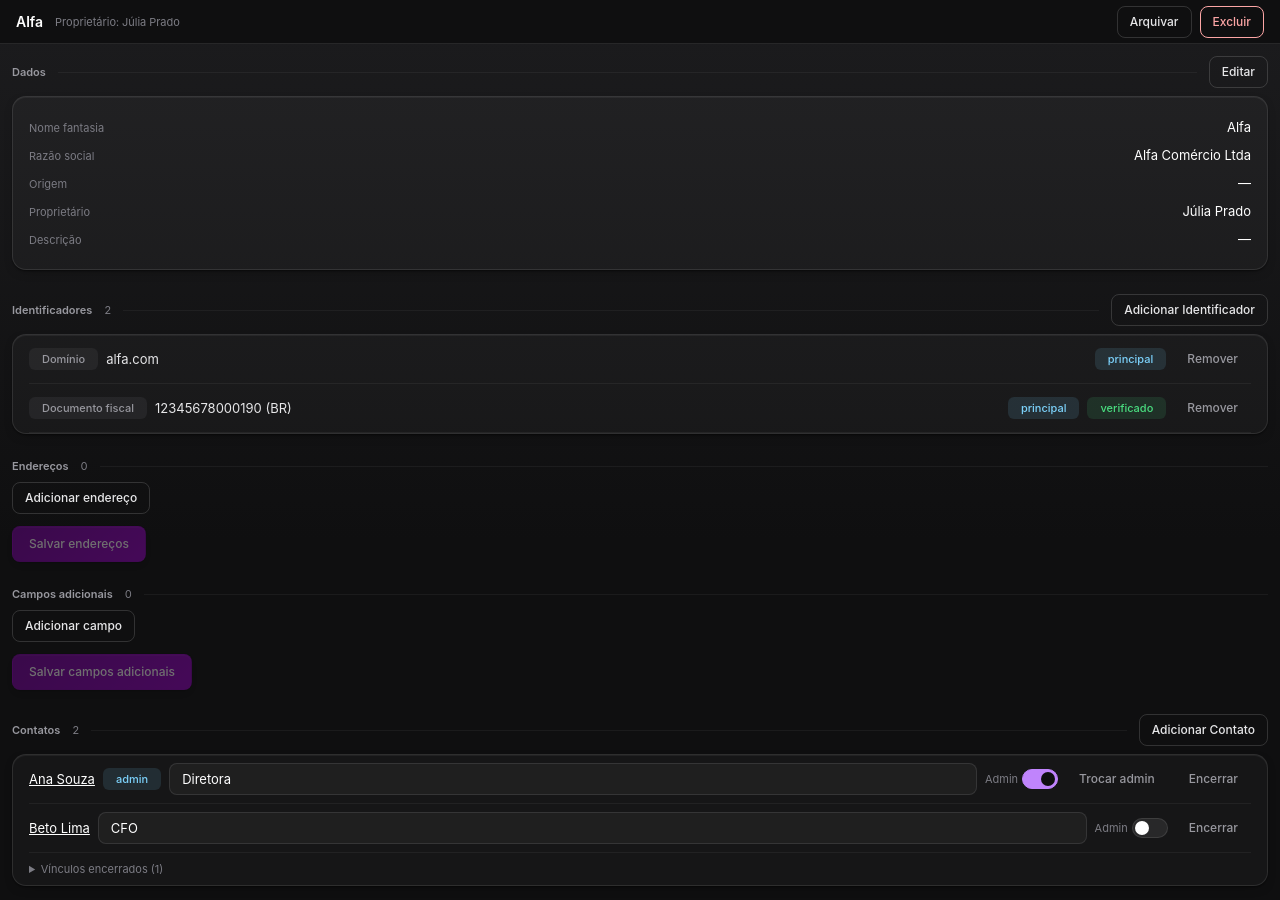
Scenario: FichaDeEmpresa — Identificadores e Dados › (j) editar a matriz: MATRIZ_INVALIDA da api aparece no campo Matriz e o diálogo continua aberto
Step 1. Click the button "Editar" → [1238, 72], box [1209, 56, 1268, 88]
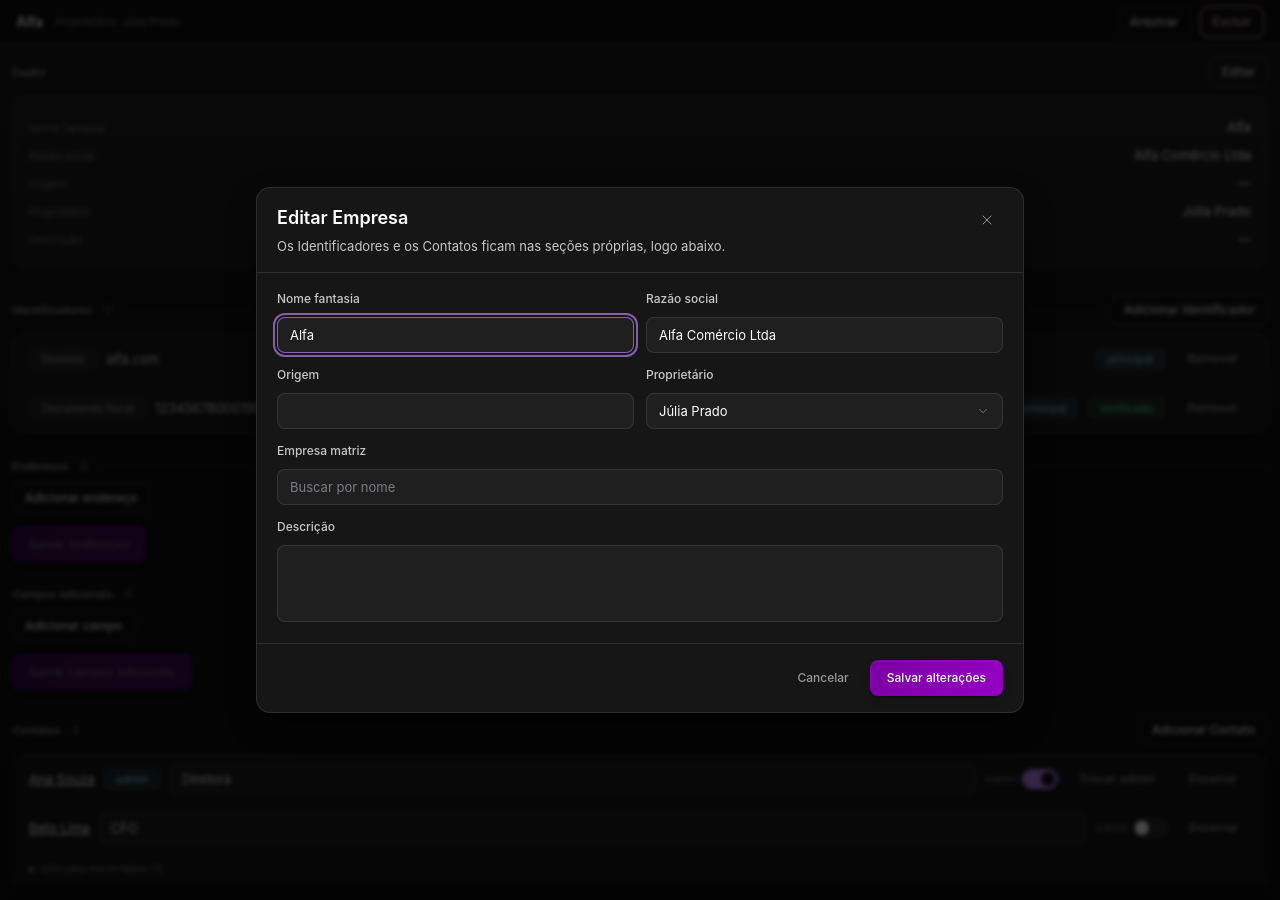
Step 2. Type "grupo" into the dropdown labelled "Empresa matriz" → [640, 487], box [277, 469, 1003, 505]
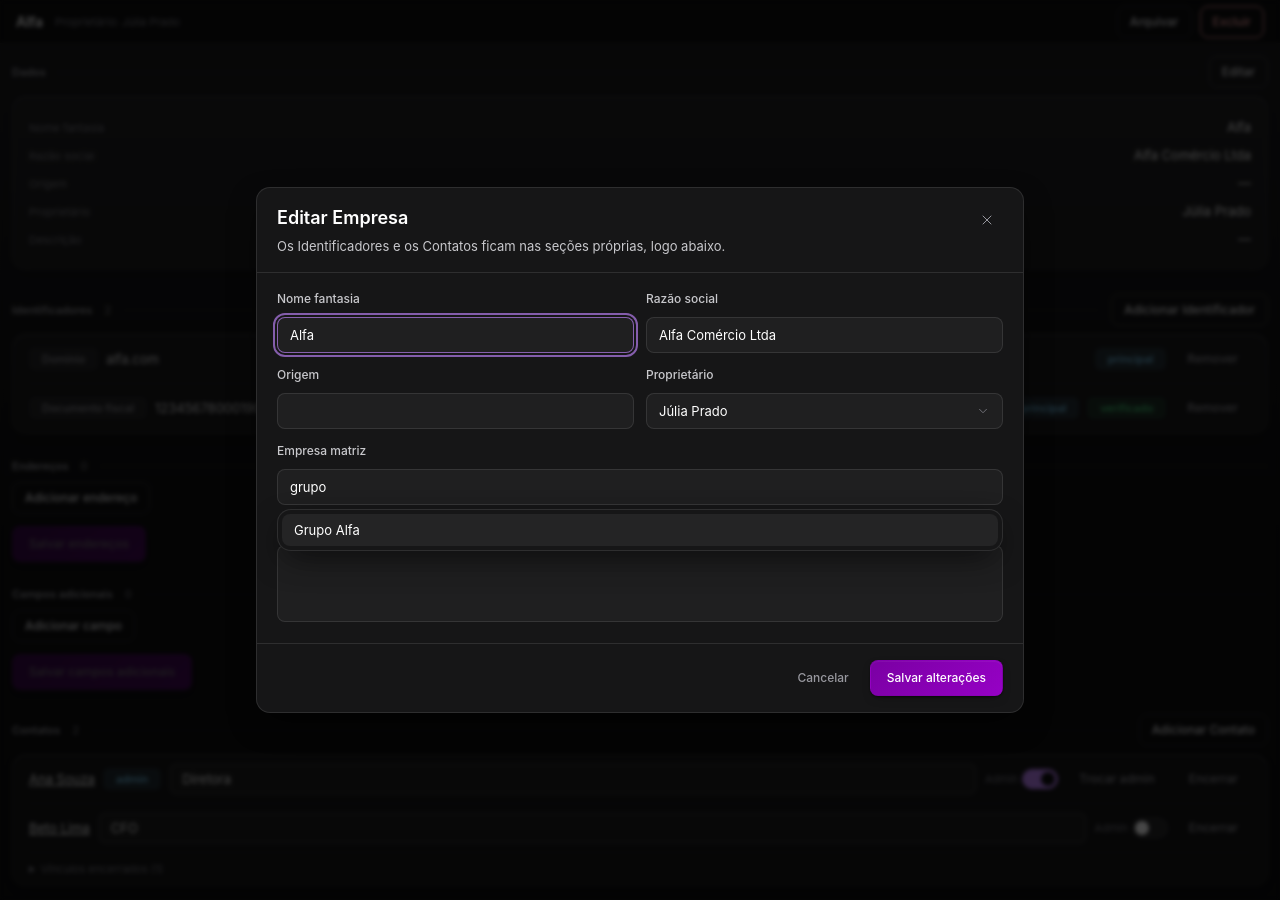
Step 3. Click the option "Grupo Alfa" → [327, 530], box [282, 514, 998, 546]
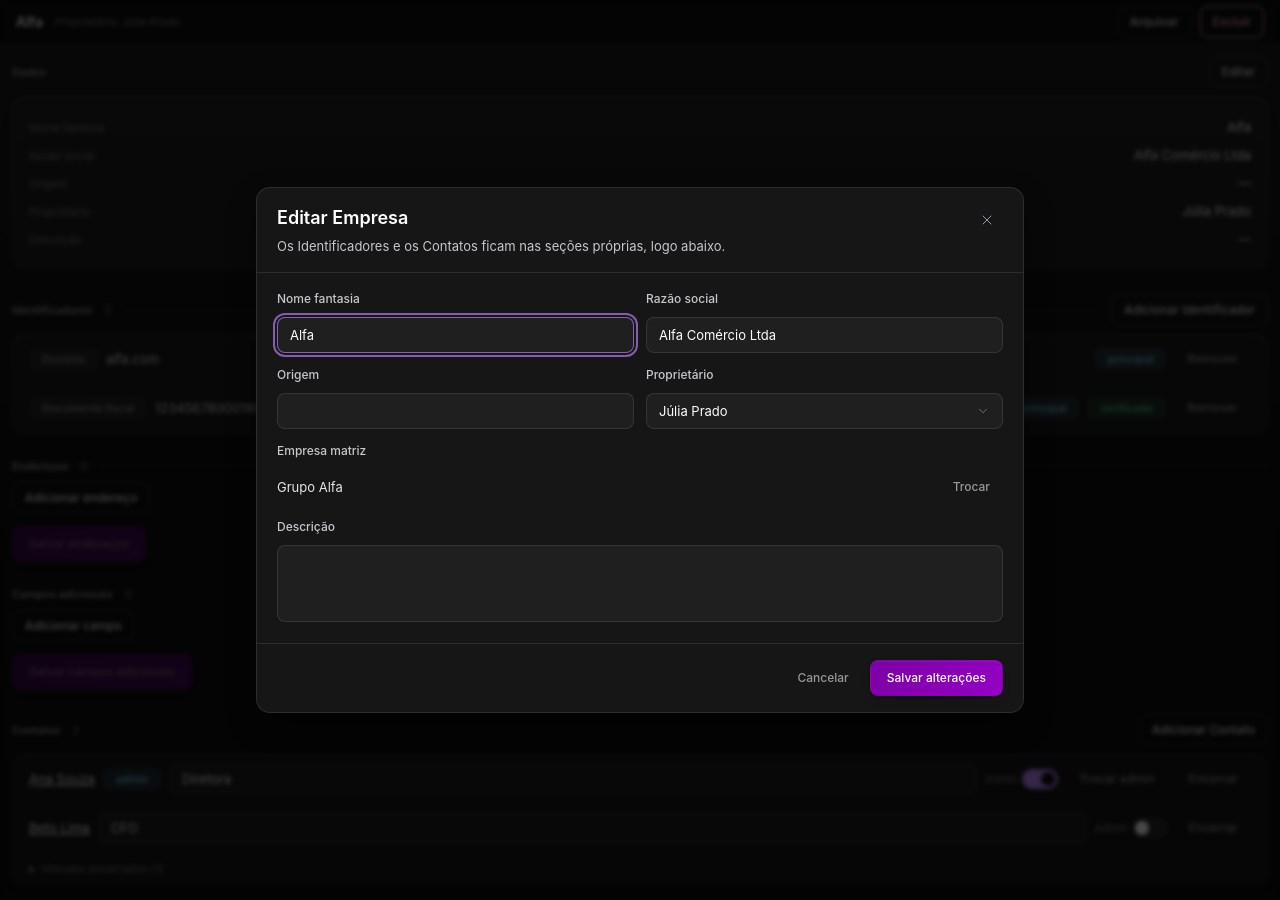
Step 4. Click the button "Salvar alterações" → [936, 678], box [870, 660, 1003, 696]
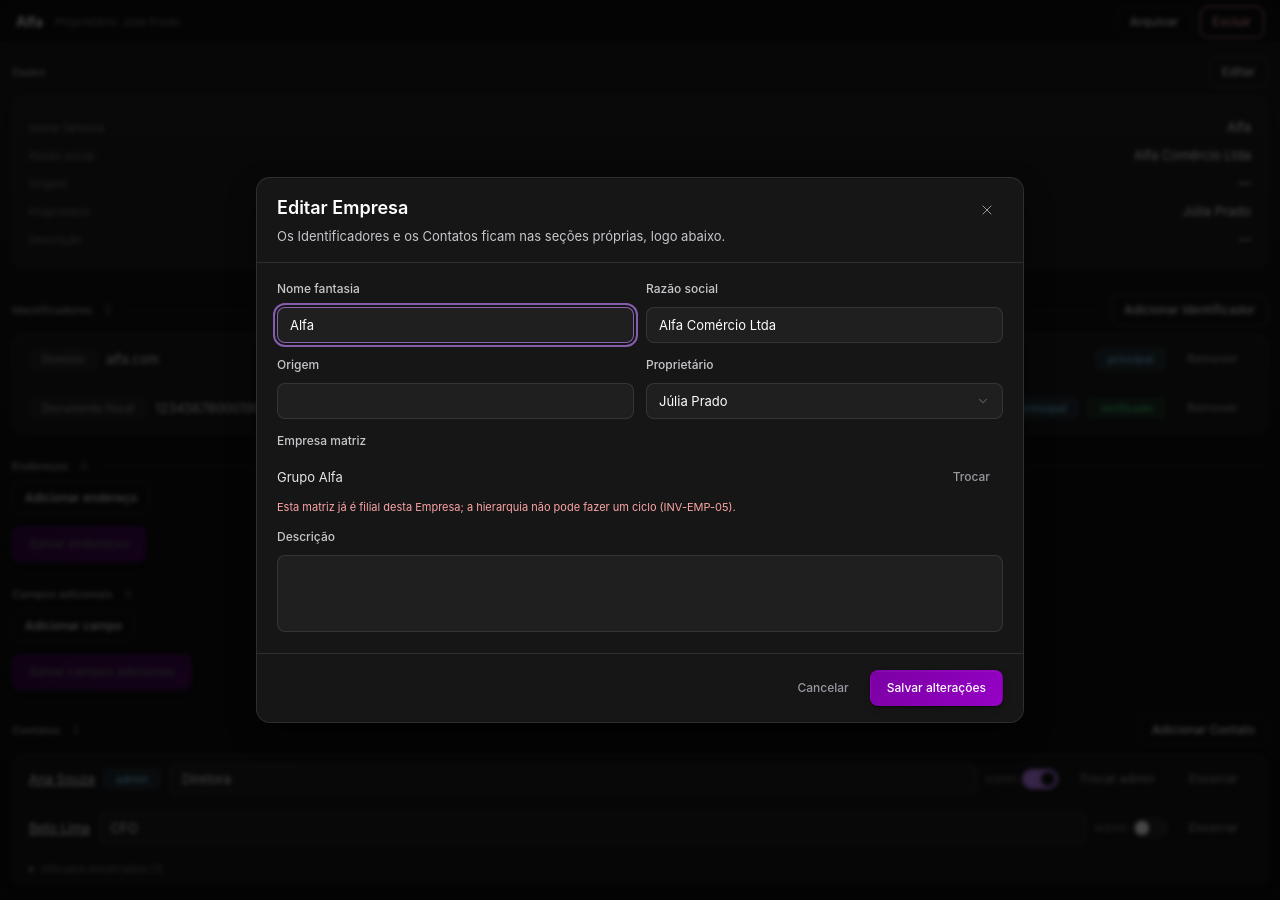
Now the dialog is shown, box [256, 177, 1024, 723]
Now the text "a hierarquia não pode fazer um ciclo" is shown, box [277, 500, 736, 514]
